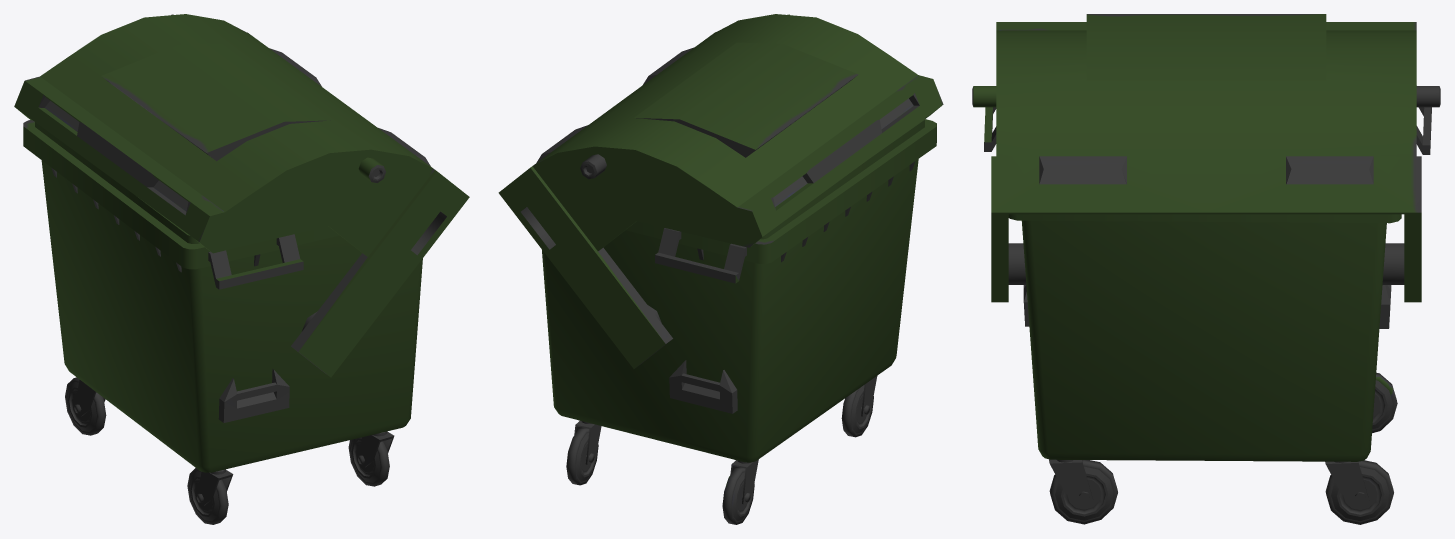
Rendered from TonneGrün.glb.
The picture shows the model from 3 angles, left to right: view 1: azimuth 30°, elevation 25°; view 2: azimuth 150°, elevation 25°; view 3: azimuth 270°, elevation 25°; orthographic projection. The views are drawn at different scales.
Parts seen in each view (by area): view 1: Cube.001; view 2: Cube.001; view 3: Cube.001.
Part boxes in pixels (x1,y1,x2,y2): Cube.001: (14,14,469,524); Cube.001: (498,14,943,524); Cube.001: (972,14,1440,524).
Size of what is drawn, in the model's own units: 2.59 by 3.46 by 3.39.
1 material, 1 textured.
